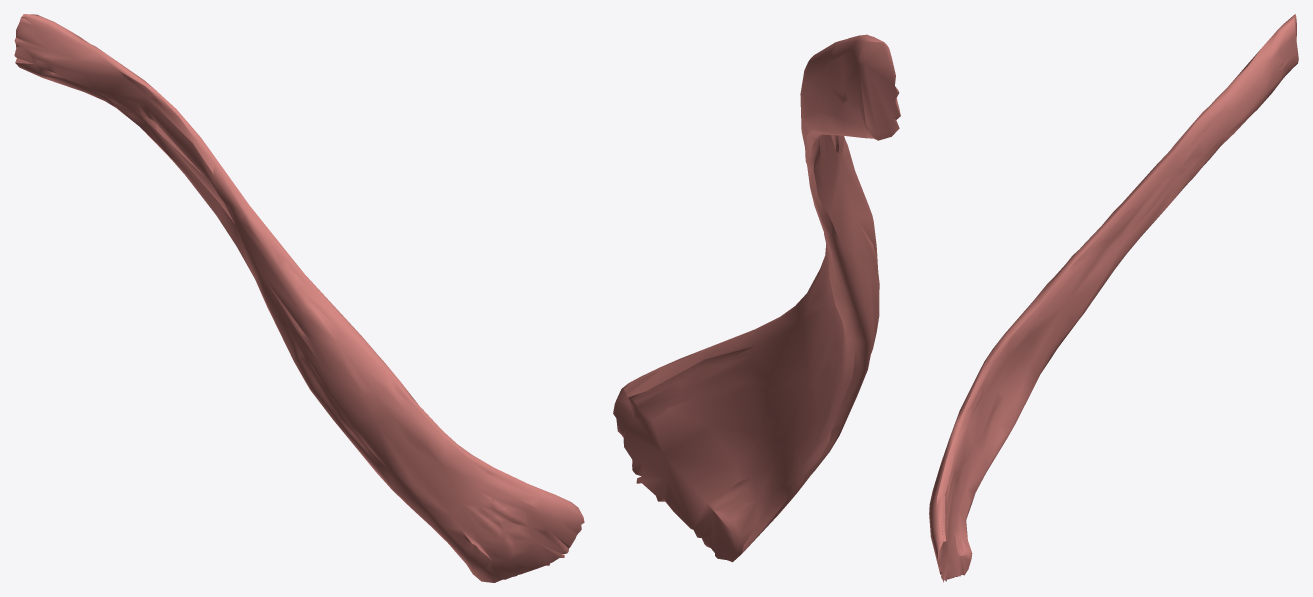
Rendered from fma45874_fj1446.glb.
3 renders of one model, left to right at view 1: azimuth 30°, elevation 25°; view 2: azimuth 150°, elevation 25°; view 3: azimuth 270°, elevation 25°, orthographic. The views are drawn at different scales.
Visible parts, largest first — view 1: FMA45874_FJ1446; view 2: FMA45874_FJ1446; view 3: FMA45874_FJ1446.
Part boxes in pixels (x1,y1,x2,y2): FMA45874_FJ1446: (14,14,584,582); FMA45874_FJ1446: (613,34,900,562); FMA45874_FJ1446: (929,14,1298,582).
Bounding box in the file's own units: 0.1329 × 0.1732 × 0.1319.
